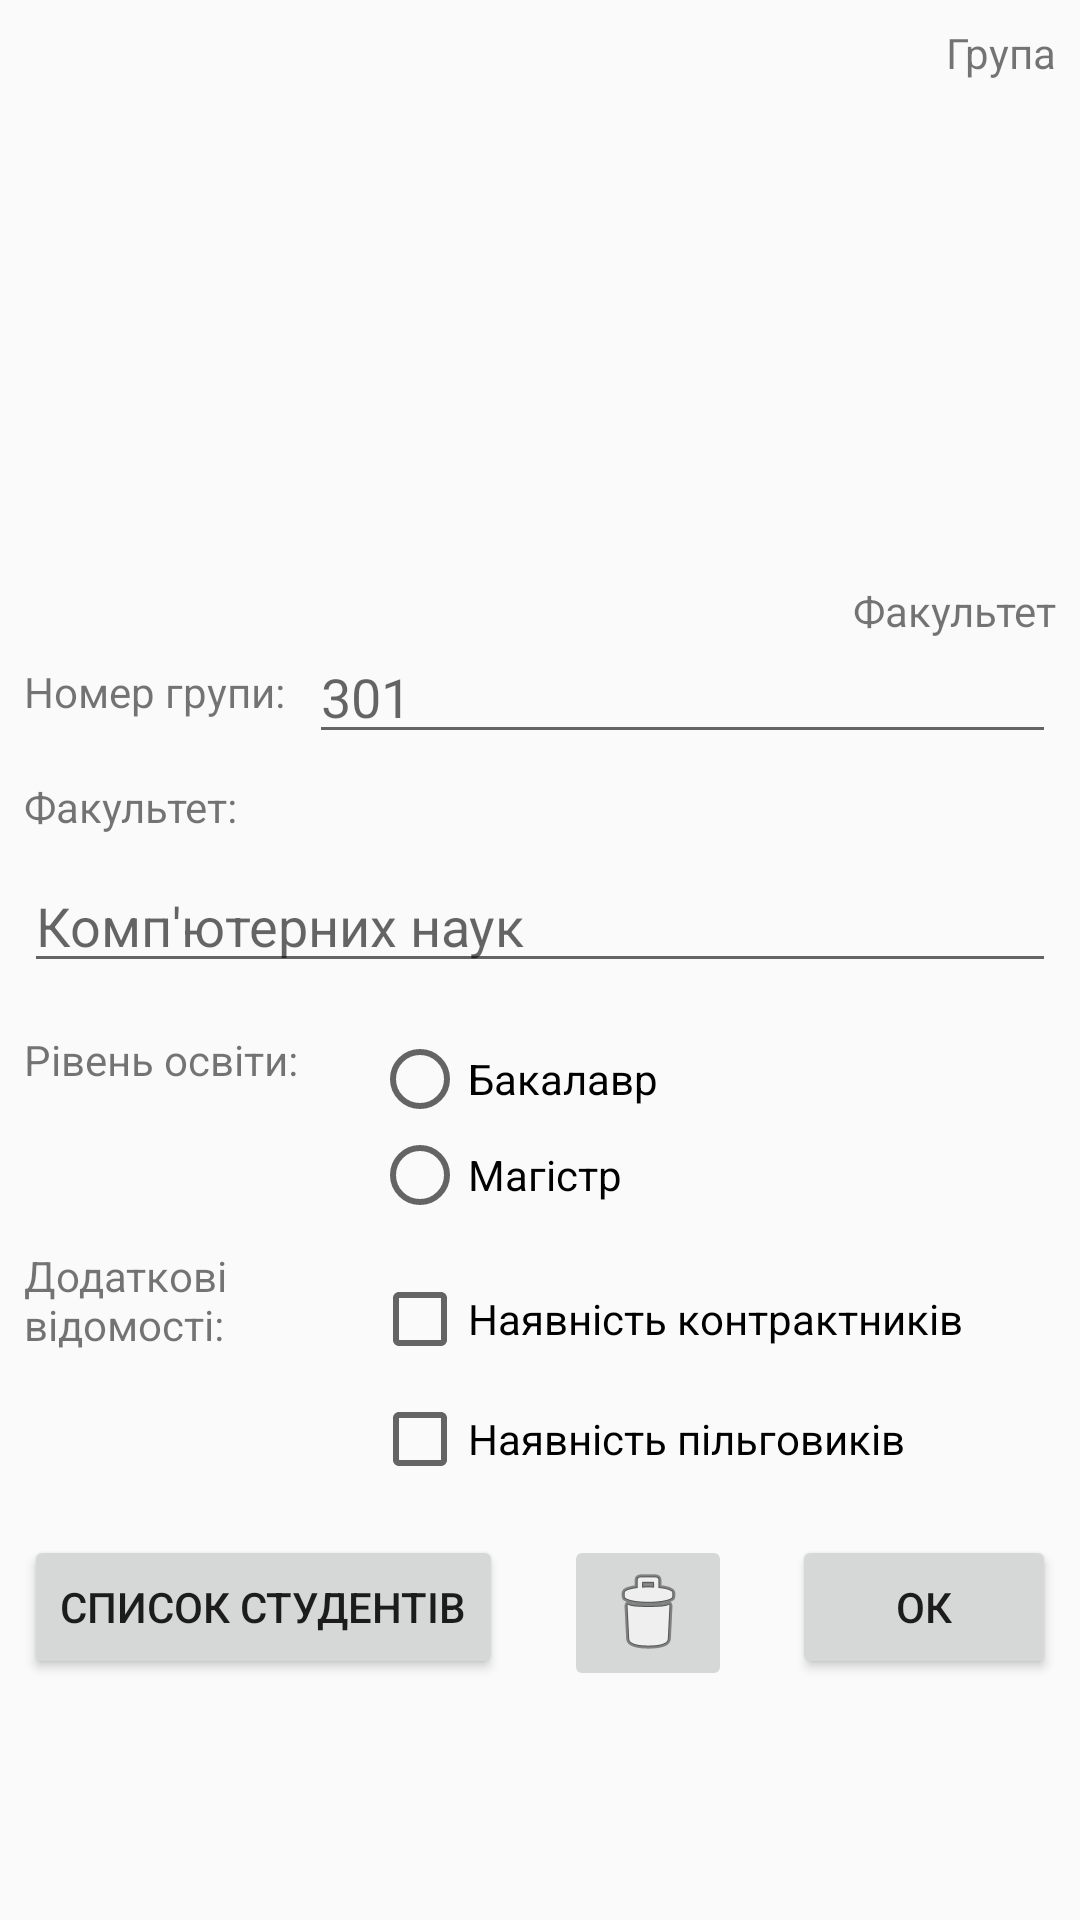

Named icons in this screenshot (1080×1920) and their bounding boxes, (x1,y1,x2,y2):
delete: (576,1553,720,1673)
